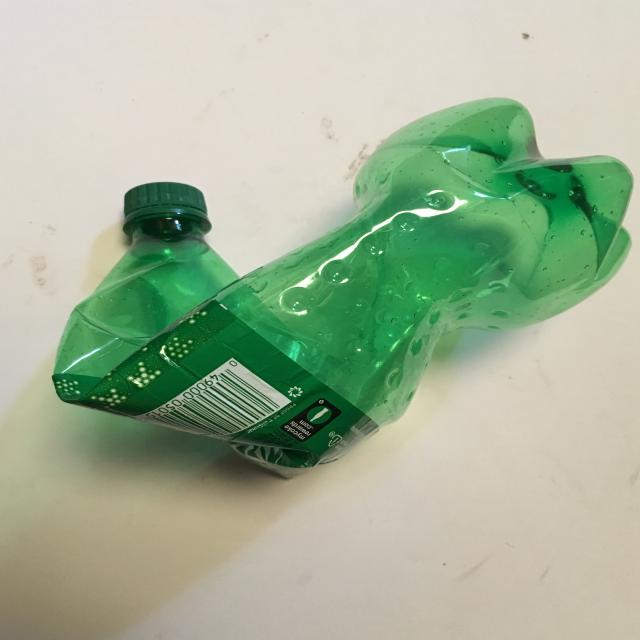plastic: (53, 96, 634, 479)
